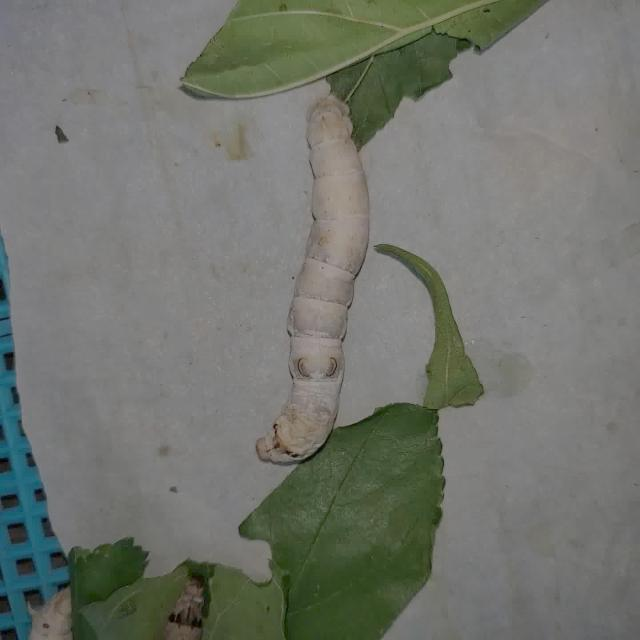Grasserie: (233, 58, 401, 500)
